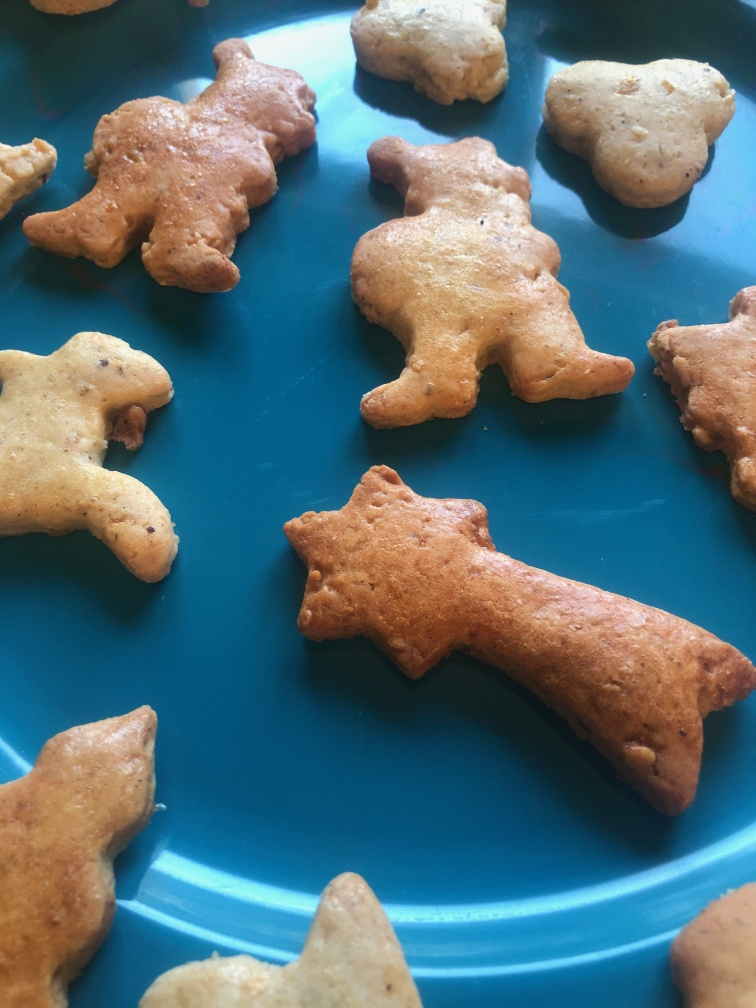flake: (539, 50, 735, 242)
lamb: (350, 1, 515, 112)
santa claus: (345, 128, 634, 441), (17, 35, 320, 299)
shooting star: (280, 460, 752, 824)
squirrel: (2, 326, 189, 593)
